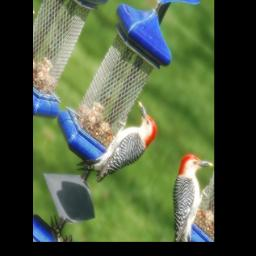Woodpecker: (70, 76, 165, 211)
